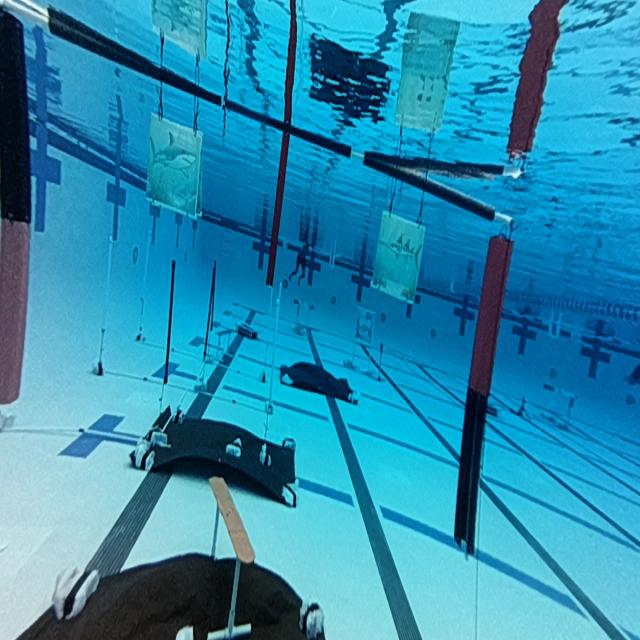pointed_nose: (372, 211, 426, 304)
round_nose: (144, 110, 206, 230)
